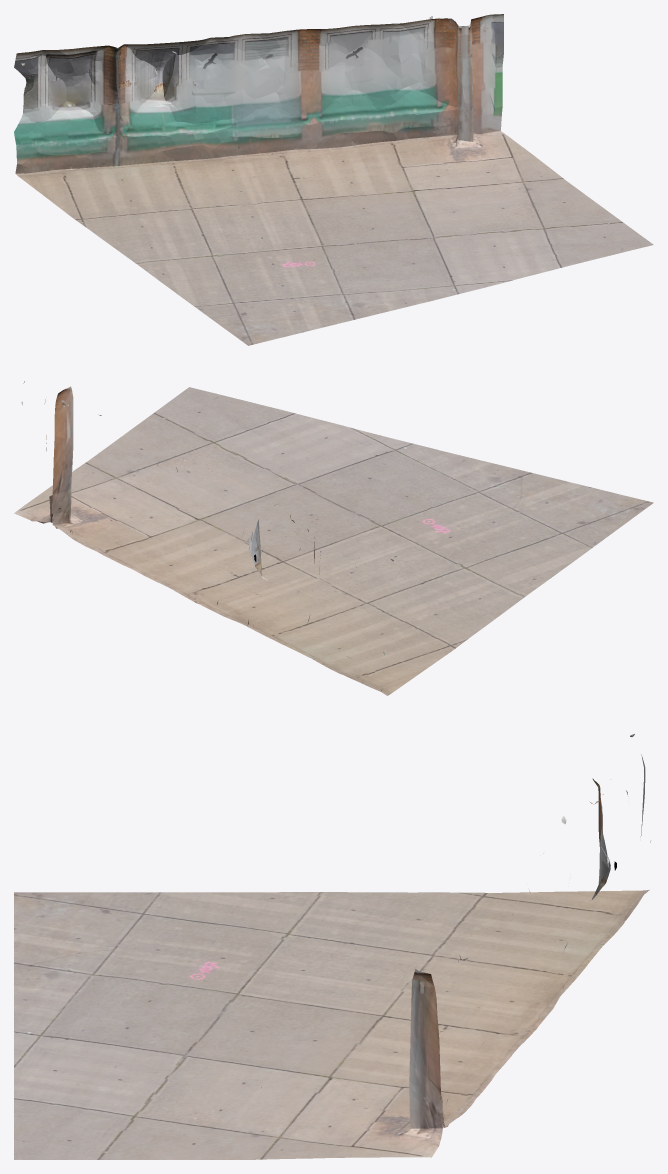
3 views of the same model, one above another, from view 1: azimuth 30°, elevation 25°; view 2: azimuth 150°, elevation 25°; view 3: azimuth 270°, elevation 25° (orthographic). The views are drawn at different scales.
Size of the model in its own units: 8.36 by 2.43 by 8.36.
Materials: 3 (3 with a texture image).
